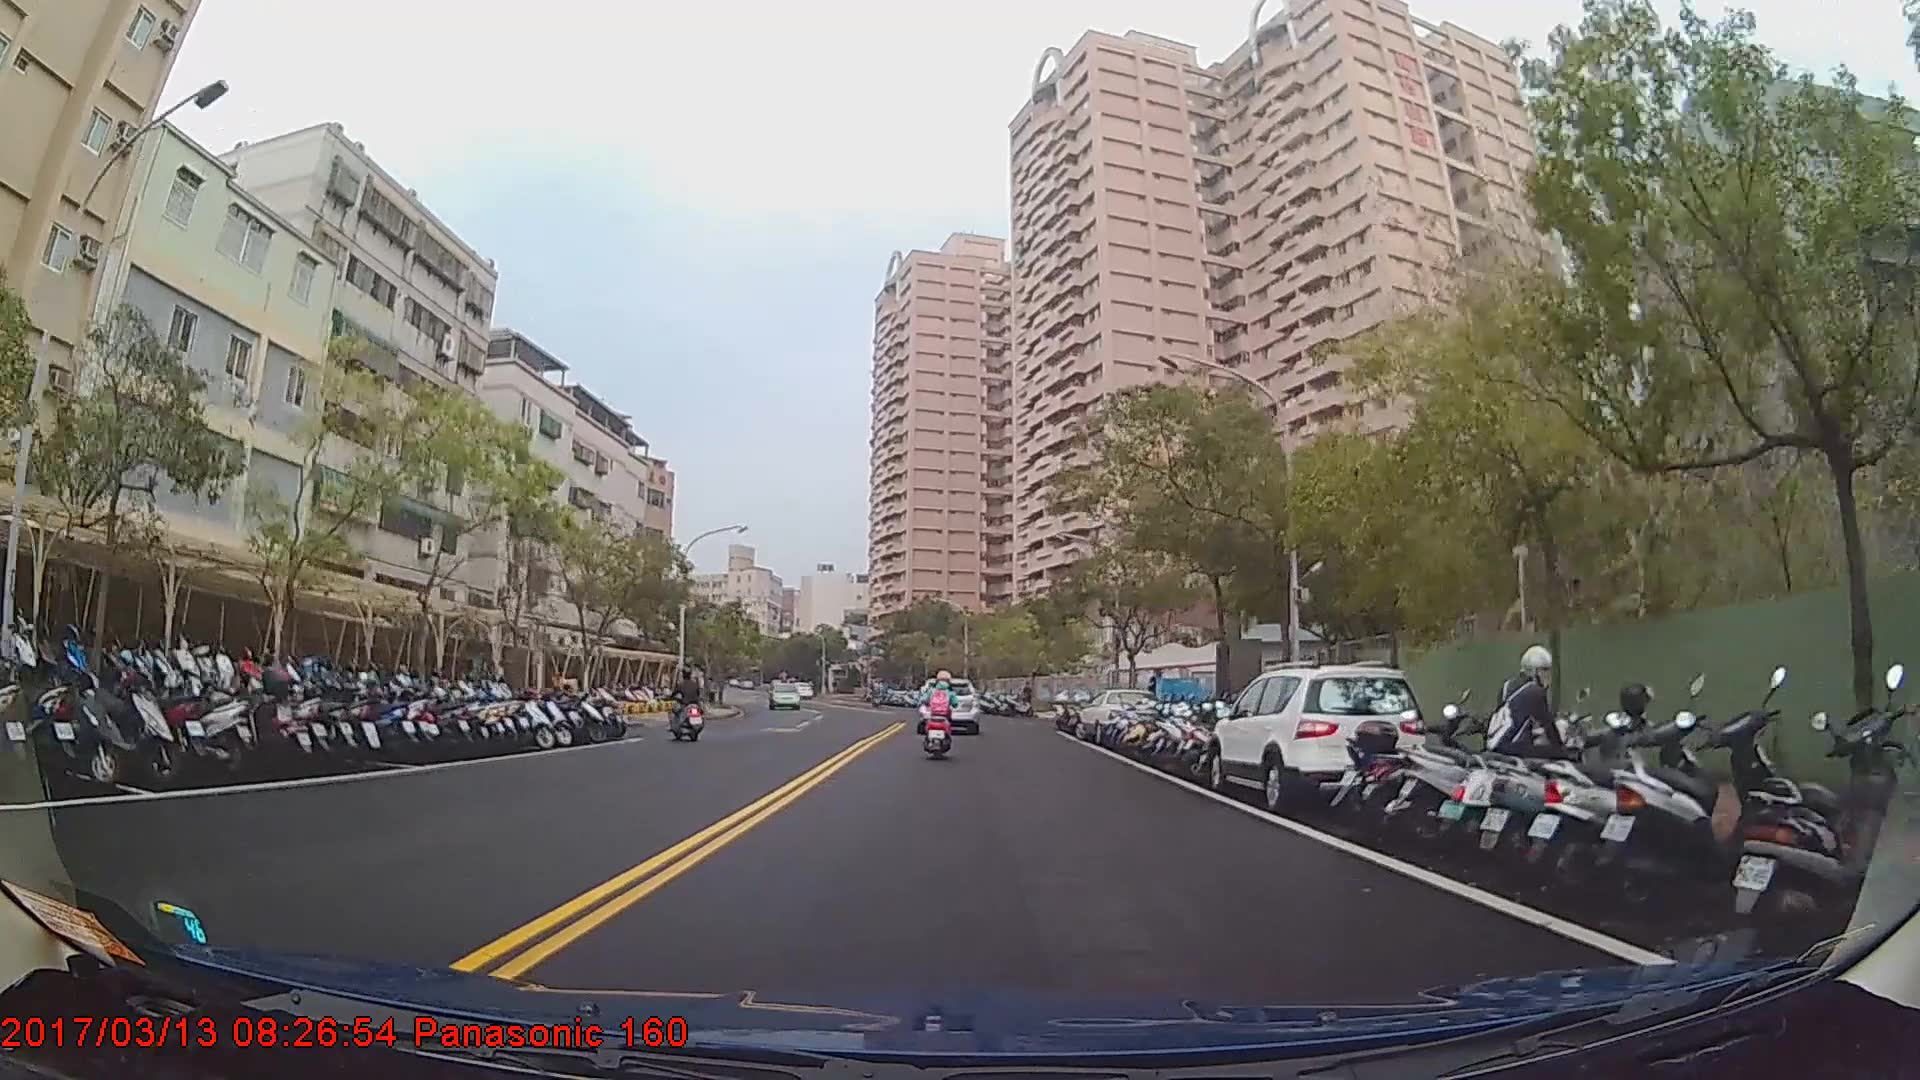rider: (920, 663, 960, 765), (668, 665, 706, 743)
vehicle: (1205, 665, 1426, 815), (1072, 685, 1160, 746), (914, 675, 976, 732), (765, 681, 801, 708)
